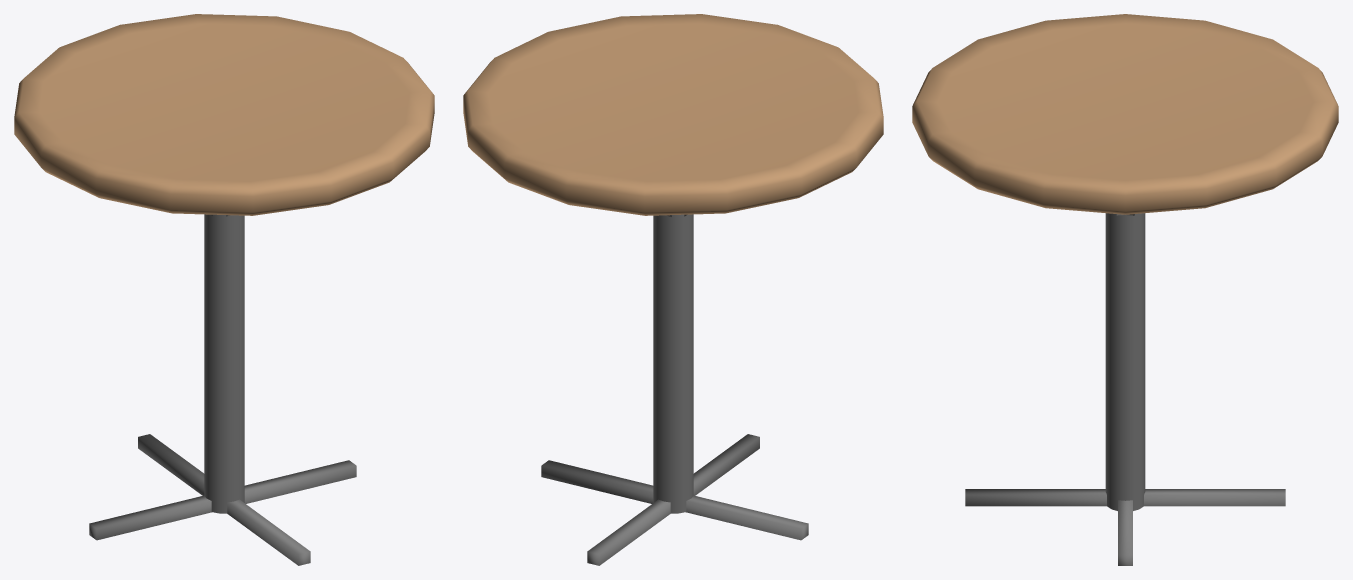
File: ModernTable.fbx
3 renders of one model, left to right at view 1: azimuth 30°, elevation 25°; view 2: azimuth 150°, elevation 25°; view 3: azimuth 270°, elevation 25°, orthographic.
Visible parts, largest first — view 1: ModernTable; view 2: ModernTable; view 3: ModernTable.
Boxes of the visible parts, left/top/right/bottom form: ModernTable: left=14, top=14, right=434, bottom=565; ModernTable: left=463, top=14, right=883, bottom=565; ModernTable: left=912, top=14, right=1338, bottom=565.
Size of the model in its own units: 182 by 192 by 184.
